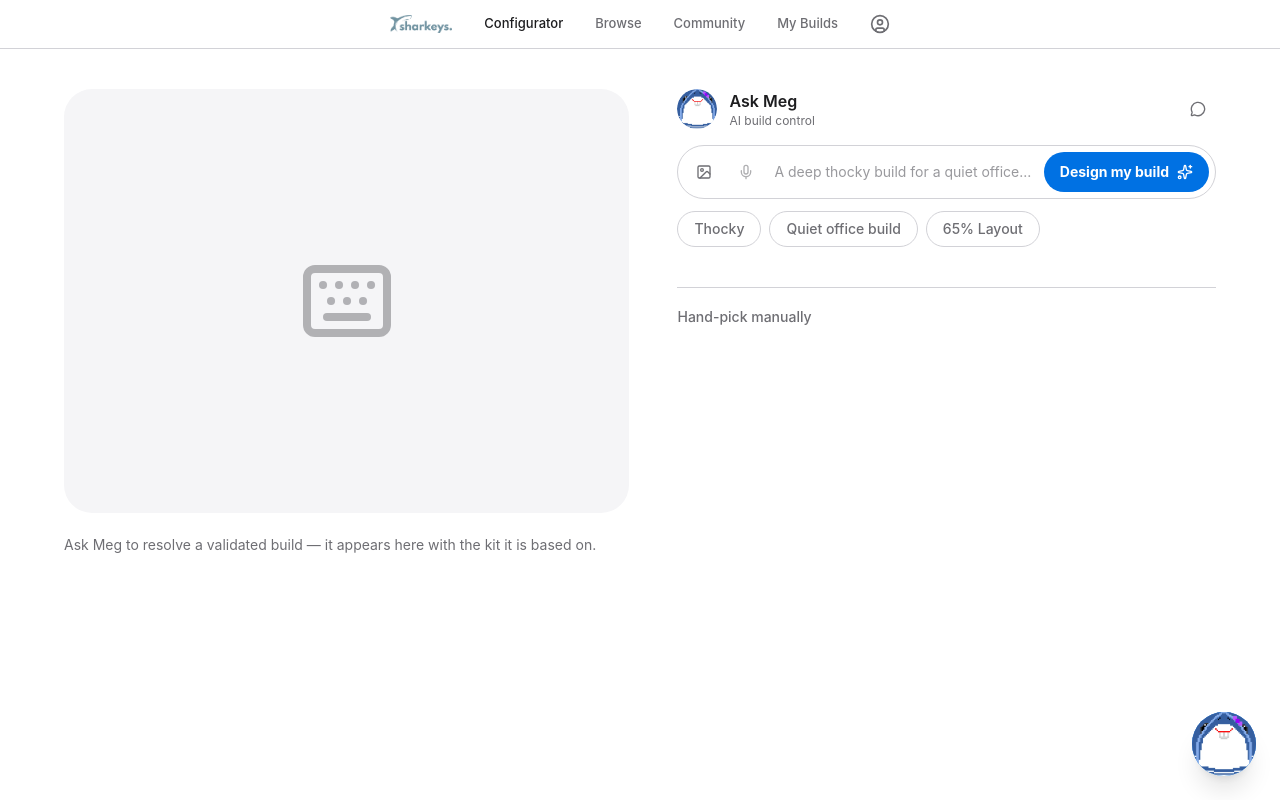
RecommendationDemo › opens and closes the floating Keybot assistant
Click the button named "Open Meg assistant": (1224, 744) [1192,712,1256,776]
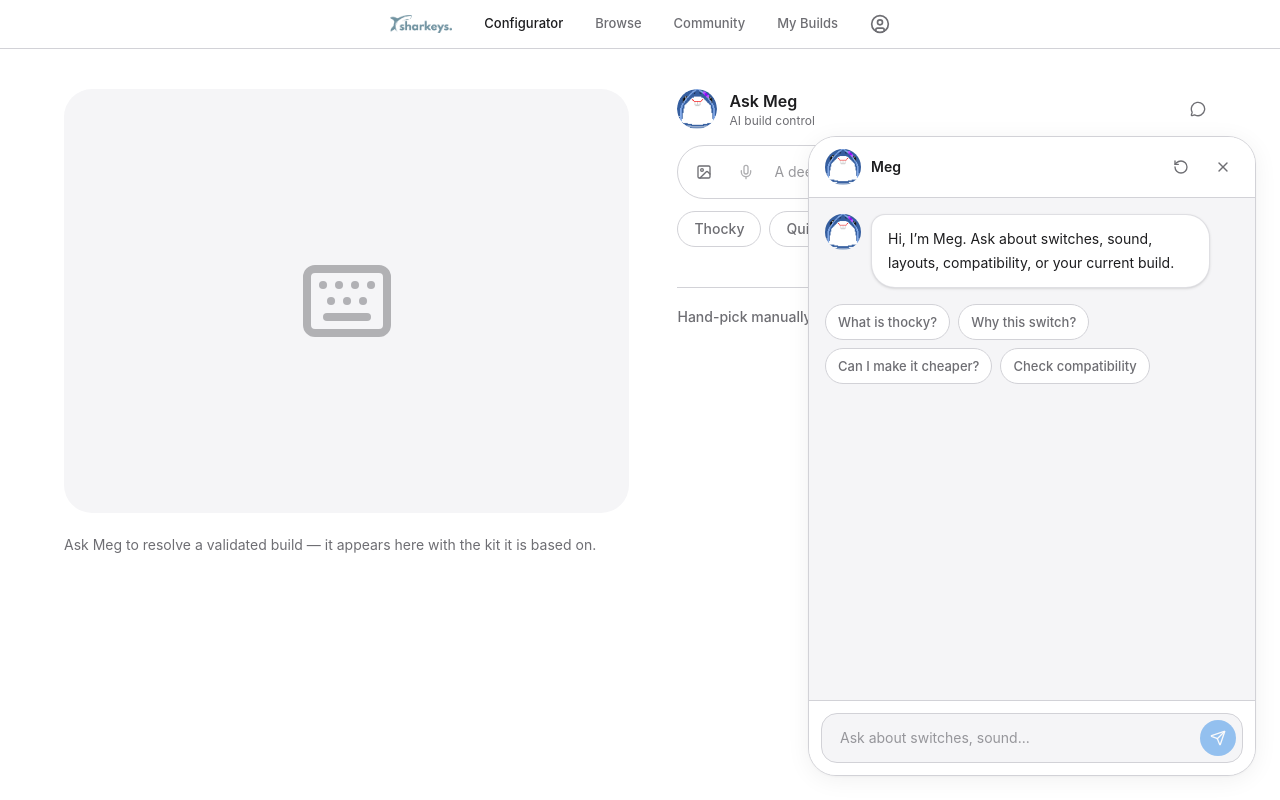
Expected: the button named "Close Meg assistant" is shown
Click the button named "Close Meg assistant": (1223, 167) [1207,151,1239,183]
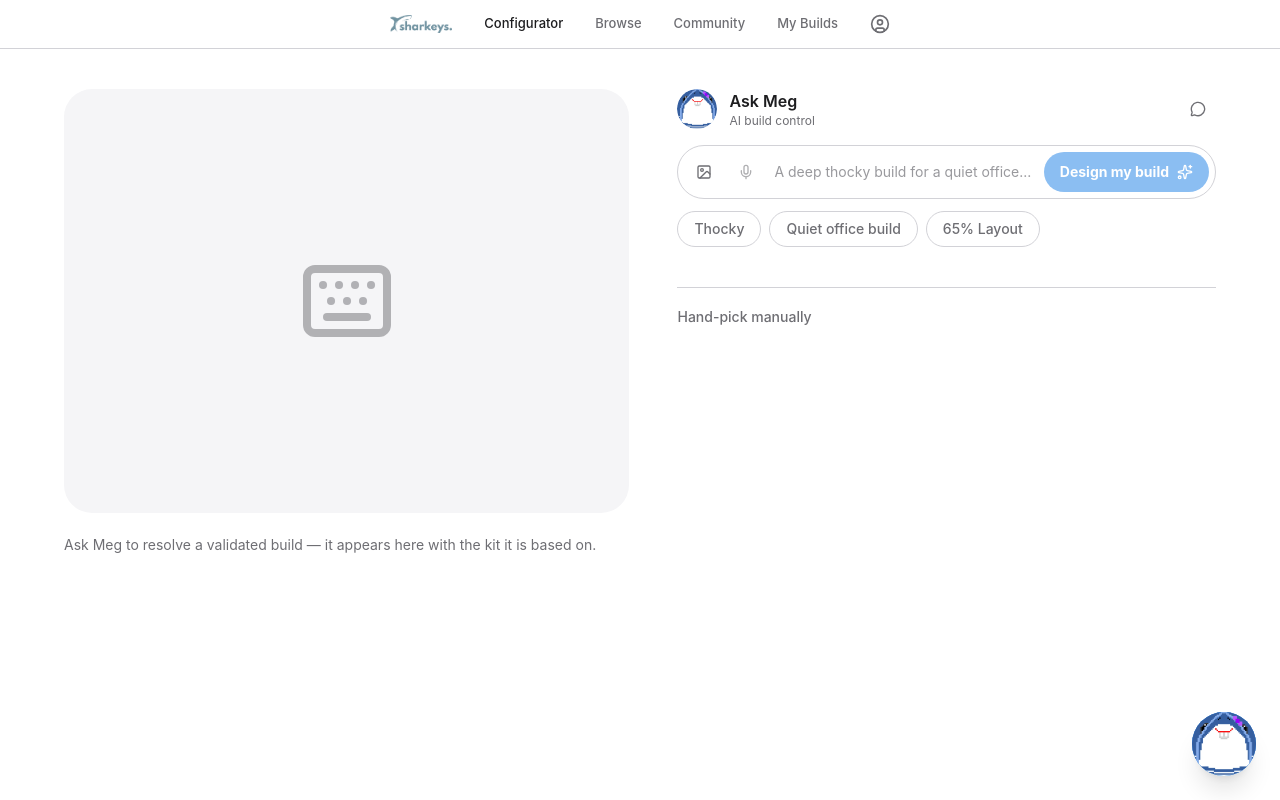
Expected: the button named "Open Meg assistant" is shown, [1192,712,1256,776]
